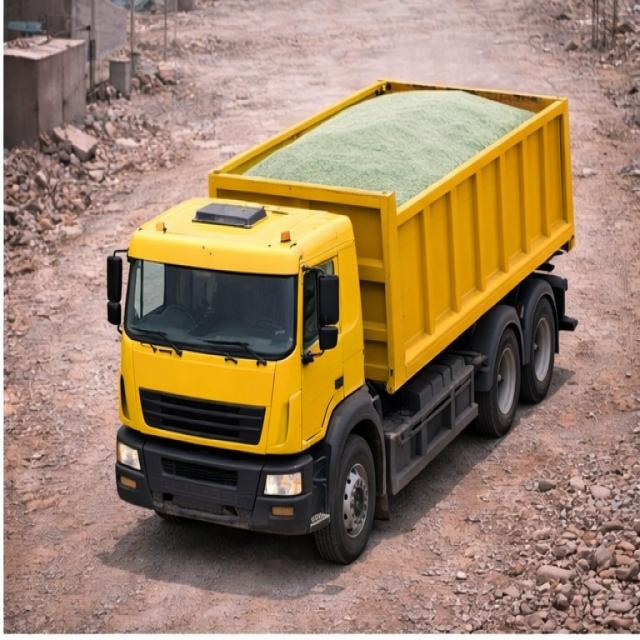trailer: (204, 80, 569, 202)
truck: (107, 62, 577, 533)
